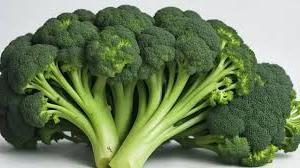broccoli: (0, 4, 298, 167)
